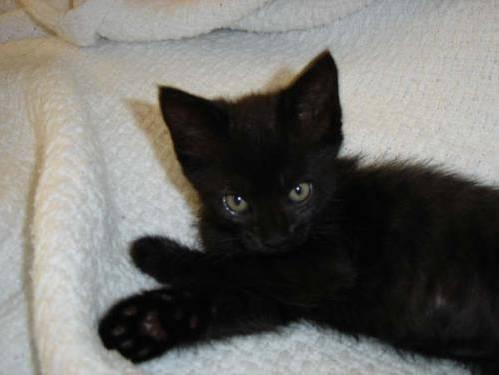cat: (100, 52, 498, 374)
